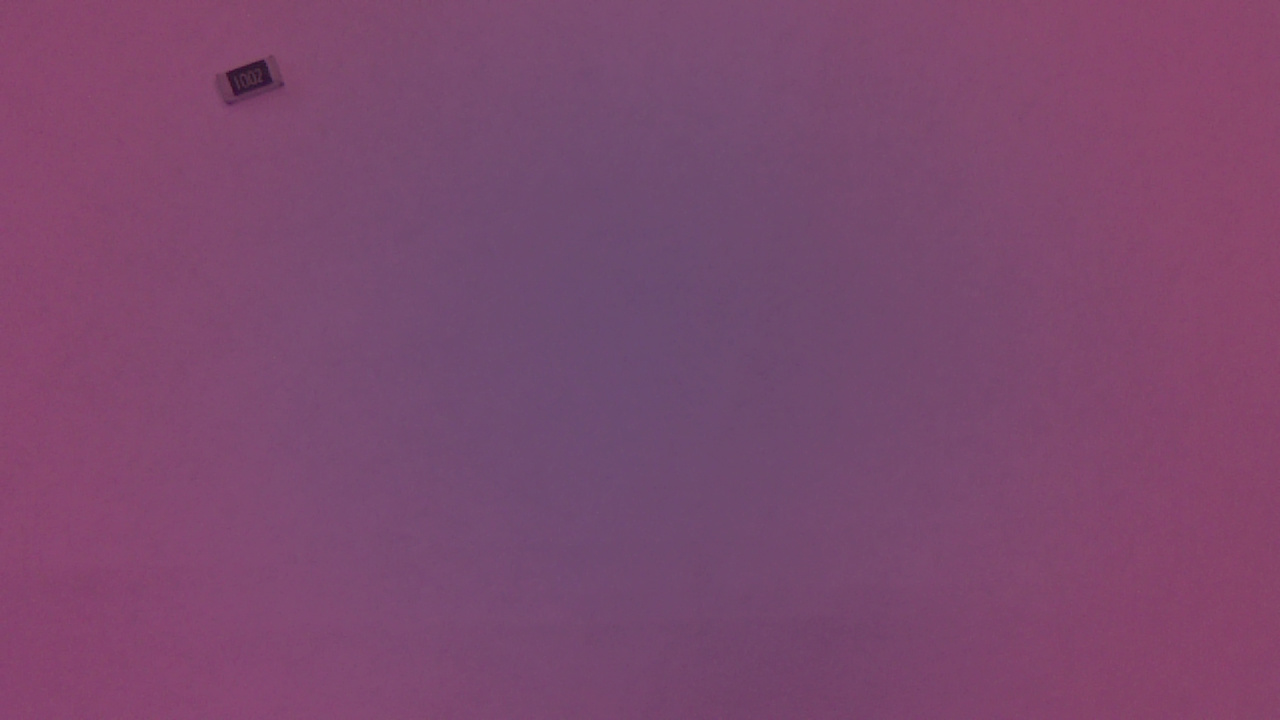Resistor: (214, 49, 295, 121)
